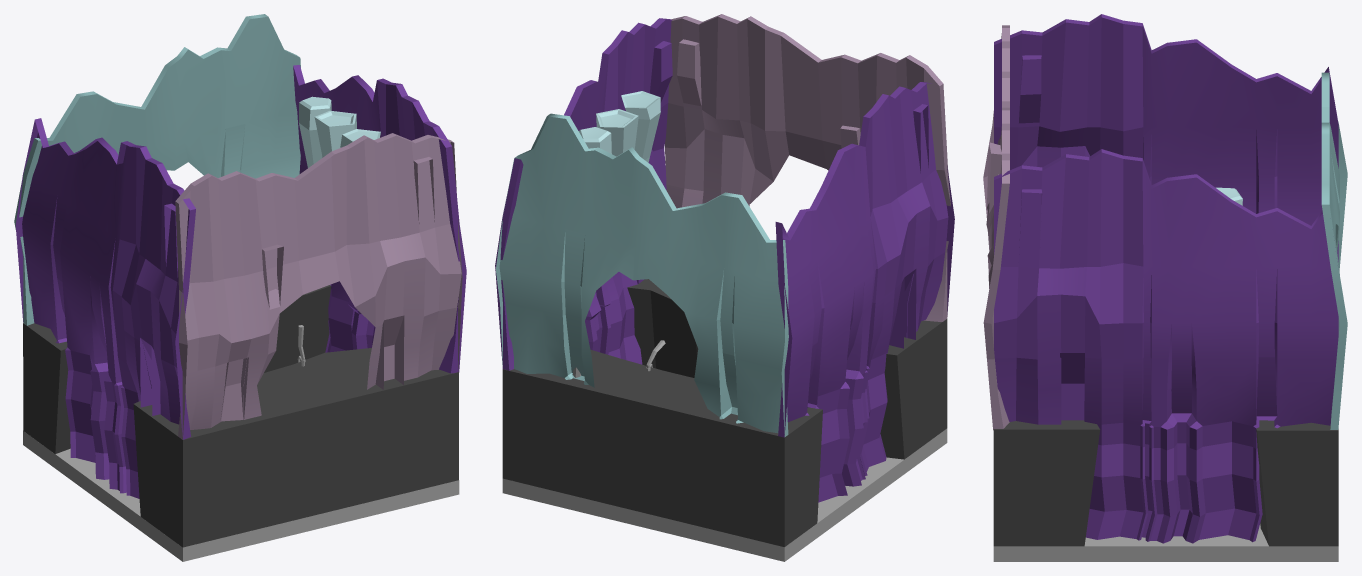
File: Grotte_pont_v3.fbx
The picture shows the model from 3 angles, left to right: view 1: azimuth 30°, elevation 25°; view 2: azimuth 150°, elevation 25°; view 3: azimuth 270°, elevation 25°; orthographic projection. The views are drawn at different scales.
Parts seen in each view (by area): view 1: murs_rocheux_entree2, mur_L, Falaise_bord_1, mur_glace5, mur_R, falaise_bord_2, sol10, Stalactite2, Stalactite_1; view 2: mur_glace5, mur_L, falaise_bord_2, murs_rocheux_entree2, mur_R, Falaise_bord_1, sol10, Stalactite3, Stalactite_1, Stalactite2; view 3: mur_R, mur_L, Falaise_bord_1, falaise_bord_2, sol10, murs_rocheux_entree2, mur_glace5.
Boxes of the visible parts, box(x1,y1,x2,y2) form: murs_rocheux_entree2: box(175, 133, 462, 439); mur_L: box(15, 118, 195, 498); Falaise_bord_1: box(133, 348, 458, 547); mur_glace5: box(14, 14, 300, 325); mur_R: box(293, 65, 466, 373); falaise_bord_2: box(23, 285, 331, 453); sol10: box(23, 431, 459, 561); Stalactite2: box(298, 96, 331, 167); Stalactite_1: box(314, 110, 356, 157); mur_glace5: box(495, 113, 788, 436); mur_L: box(775, 82, 954, 502); falaise_bord_2: box(502, 349, 822, 547); murs_rocheux_entree2: box(665, 14, 950, 321); mur_R: box(495, 18, 672, 370); Falaise_bord_1: box(627, 279, 947, 459); sol10: box(502, 428, 947, 561); Stalactite3: box(621, 91, 660, 162); Stalactite_1: box(596, 109, 638, 156); Stalactite2: box(578, 127, 611, 153); mur_R: box(994, 149, 1338, 543); mur_L: box(994, 14, 1338, 261); Falaise_bord_1: box(993, 420, 1100, 546); falaise_bord_2: box(1256, 420, 1338, 546); sol10: box(993, 524, 1338, 561); murs_rocheux_entree2: box(983, 25, 1009, 430); mur_glace5: box(1321, 72, 1347, 429).
Bounding box in the file's own units: 843 × 1045 × 845.
